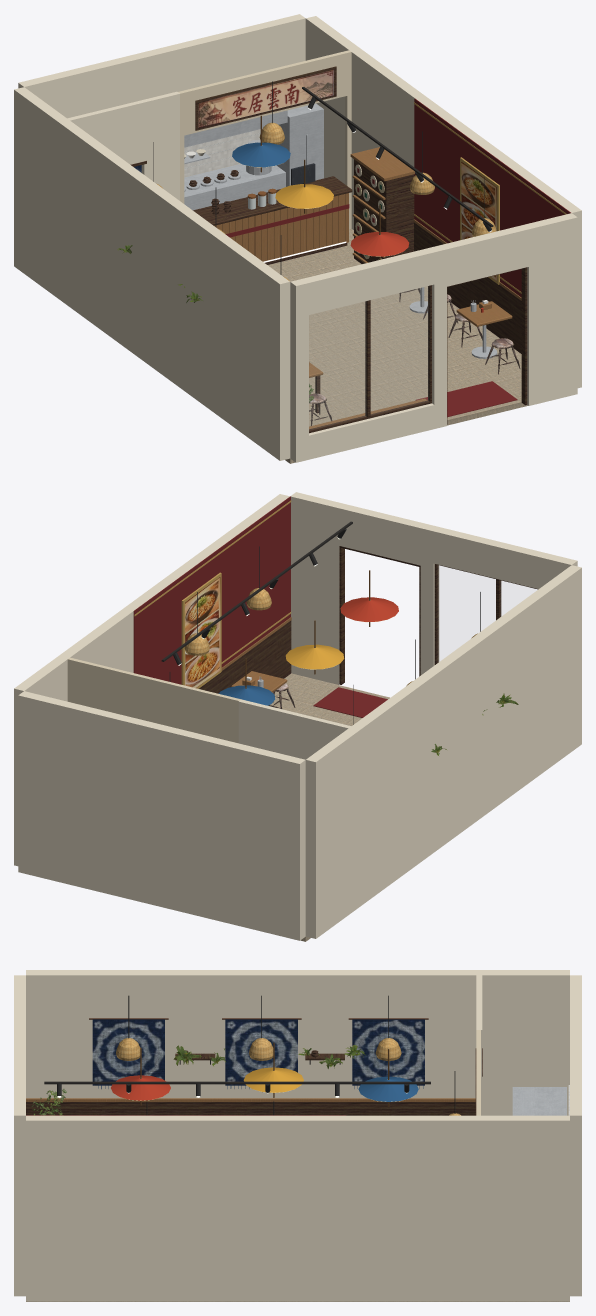
File: tz_keju_interior.glb
3 renders of one model, top to bottom at view 1: azimuth 30°, elevation 25°; view 2: azimuth 150°, elevation 25°; view 3: azimuth 270°, elevation 25°, orthographic. The views are drawn at different scales.
Visible parts, largest first — view 1: WALL_W, S_vc, WALL_S, S_floor, WALL_N, WALL_E, S_wood_d, S_steel, S_wood, S_pics, WALL_Sfix_wood_d, S_tile_w (+3 smaller); view 2: WALL_N, WALL_W, S_vc, WALL_S, WALL_E, S_pics, S_wood_d, S_floor, WALL_Sfix_wood_d, S_wood, S_wicker, S_blackmetal; view 3: WALL_E, WALL_W, S_packs, S_wood_d, S_vc, WALL_N, WALL_S, S_wood, S_steel, S_blackmetal, S_wicker, S_floor.
Part boxes in pixels (x1,y1,x2,y2): WALL_W: (14,87,290,460); S_vc: (67,50,570,417); WALL_S: (290,213,577,462); S_floor: (268,228,528,463); WALL_N: (18,14,305,177); WALL_E: (305,16,581,388); S_wood_d: (130,66,521,413); S_steel: (184,103,497,358); S_wood: (214,147,521,377); S_pics: (198,69,496,280); WALL_Sfix_wood_d: (309,267,527,433); S_tile_w: (184,128,262,176); WALL_N: (18,691,305,940); WALL_W: (305,565,581,938); S_vc: (67,496,480,759); WALL_S: (290,492,577,684); WALL_E: (14,494,289,866); S_pics: (185,577,220,688); S_wood_d: (199,620,291,693); S_floor: (270,673,389,941); WALL_Sfix_wood_d: (339,546,538,684); S_wood: (221,617,291,692); S_wicker: (184,588,477,685); S_blackmetal: (161,521,352,661); WALL_E: (26,1115,569,1301); WALL_W: (26,970,569,1115); S_packs: (92,1020,424,1085); S_wood_d: (26,1048,482,1115); S_vc: (26,975,482,1115); WALL_N: (570,975,581,1296); WALL_S: (14,975,25,1296); S_wood: (26,1098,475,1101); S_steel: (512,1087,566,1115); S_blackmetal: (44,1060,430,1084); S_wicker: (116,1038,460,1115); S_floor: (26,1301,569,1301).
Size of the model in its own units: 6.22 by 3.4 by 9.4.
20 materials, 16 textured.
